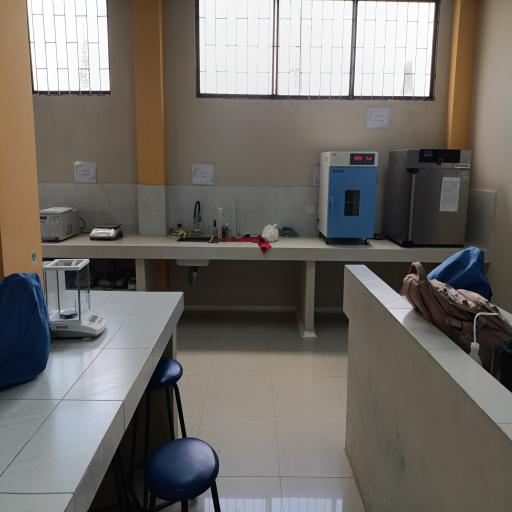Horno_Secado_Biobase: (316, 143, 380, 247)
Incubadora: (384, 140, 475, 252)
